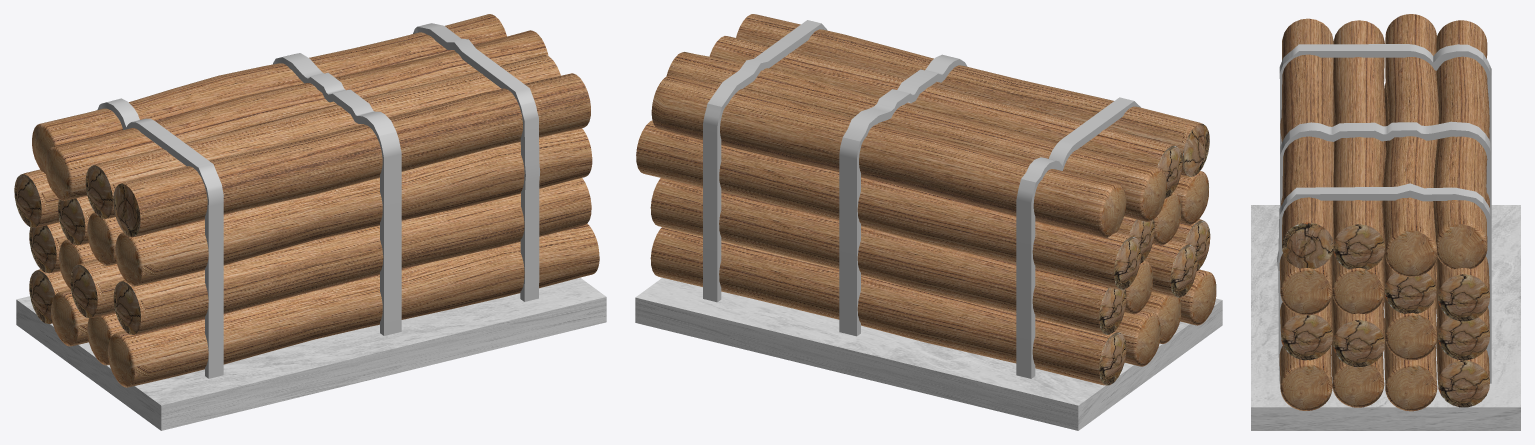
Rendered from tree_block.fbx.
3 renders of one model, left to right at view 1: azimuth 30°, elevation 25°; view 2: azimuth 150°, elevation 25°; view 3: azimuth 270°, elevation 25°, orthographic. The views are drawn at different scales.
Visible parts, largest first — view 1: pCube1, pCylinder10, pCylinder5, pCylinder13, pCylinder8, pCube2, pCylinder11, pCylinder16, pCylinder14, pCylinder6, pCylinder9, pCylinder2 (+6 smaller); view 2: pCube1, pCylinder16, pCylinder9, pCylinder1, pCylinder4, pCube2, pCylinder11, pCylinder10, pCylinder14, pCylinder6, pCylinder2, pCylinder5 (+6 smaller); view 3: pCube1, pCylinder11, pCube2, pCylinder10, pCylinder16, pCylinder14, pCylinder6, pCylinder2, pCylinder9, pCylinder5, pCylinder1, pCylinder13 (+6 smaller).
Part boxes in pixels (left/top/right/bottom): pCube1: left=16, top=277, right=606, bottom=430; pCylinder10: left=113, top=73, right=590, bottom=237; pCylinder5: left=107, top=224, right=599, bottom=387; pCylinder13: left=115, top=128, right=592, bottom=286; pCylinder8: left=113, top=178, right=591, bottom=334; pCube2: left=97, top=23, right=540, bottom=378; pCylinder11: left=45, top=30, right=548, bottom=200; pCylinder16: left=32, top=14, right=506, bottom=173; pCylinder14: left=85, top=55, right=560, bottom=218; pCylinder6: left=70, top=259, right=124, bottom=318; pCylinder9: left=14, top=169, right=59, bottom=227; pCylinder2: left=51, top=290, right=88, bottom=346; pCube1: left=635, top=277, right=1222, bottom=430; pCylinder16: left=651, top=75, right=1126, bottom=238; pCylinder9: left=636, top=120, right=1141, bottom=289; pCylinder1: left=650, top=227, right=1126, bottom=385; pCylinder4: left=650, top=178, right=1126, bottom=334; pCube2: left=703, top=20, right=1140, bottom=378; pCylinder11: left=666, top=52, right=1166, bottom=221; pCylinder10: left=736, top=14, right=1209, bottom=176; pCylinder14: left=709, top=36, right=1182, bottom=198; pCylinder6: left=1145, top=239, right=1197, bottom=297; pCylinder2: left=1115, top=310, right=1160, bottom=366; pCylinder5: left=1180, top=269, right=1216, bottom=325; pCube1: left=1251, top=205, right=1520, bottom=430; pCylinder11: left=1382, top=14, right=1438, bottom=277; pCube2: left=1277, top=44, right=1491, bottom=383; pCylinder10: left=1281, top=18, right=1333, bottom=268; pCylinder16: left=1433, top=20, right=1489, bottom=269; pCylinder14: left=1333, top=20, right=1386, bottom=270; pCylinder6: left=1331, top=258, right=1384, bottom=366; pCylinder2: left=1384, top=266, right=1437, bottom=411; pCylinder9: left=1436, top=133, right=1489, bottom=321; pCylinder5: left=1279, top=281, right=1332, bottom=410; pCylinder1: left=1436, top=318, right=1489, bottom=407; pCylinder13: left=1279, top=118, right=1332, bottom=315.
Size of the model in its own units: 20.39 by 9.19 by 10.34.
